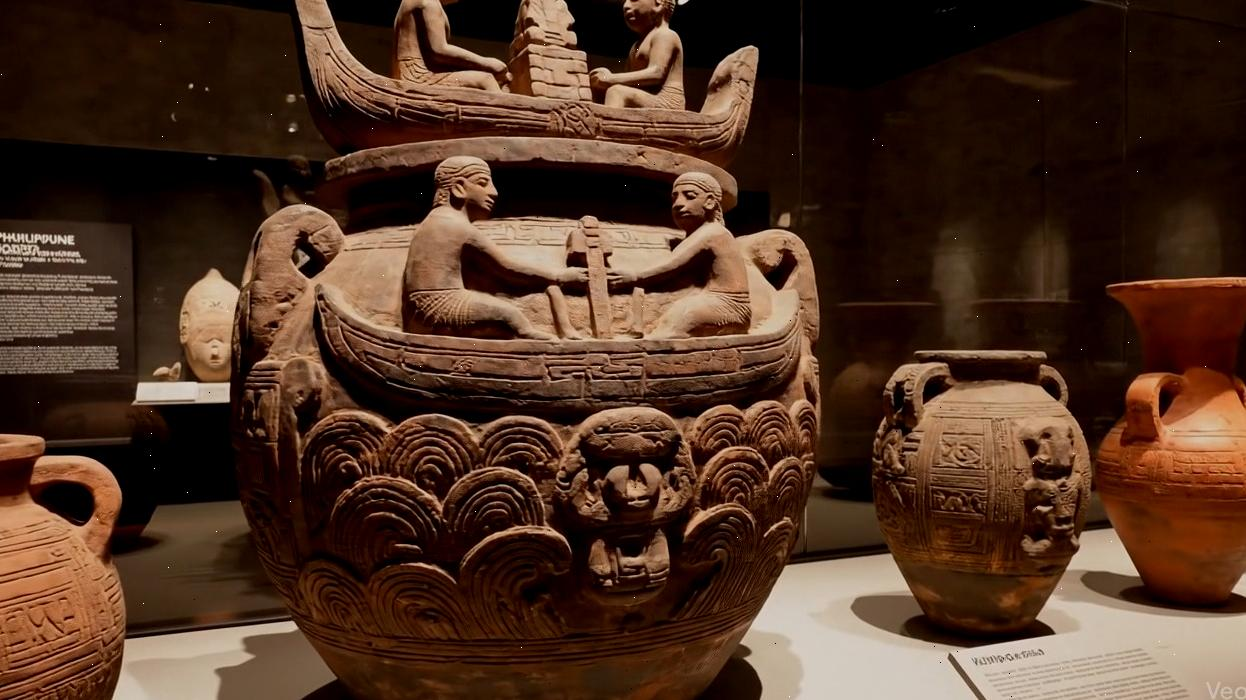manunggul_jar: (218, 0, 836, 700)
